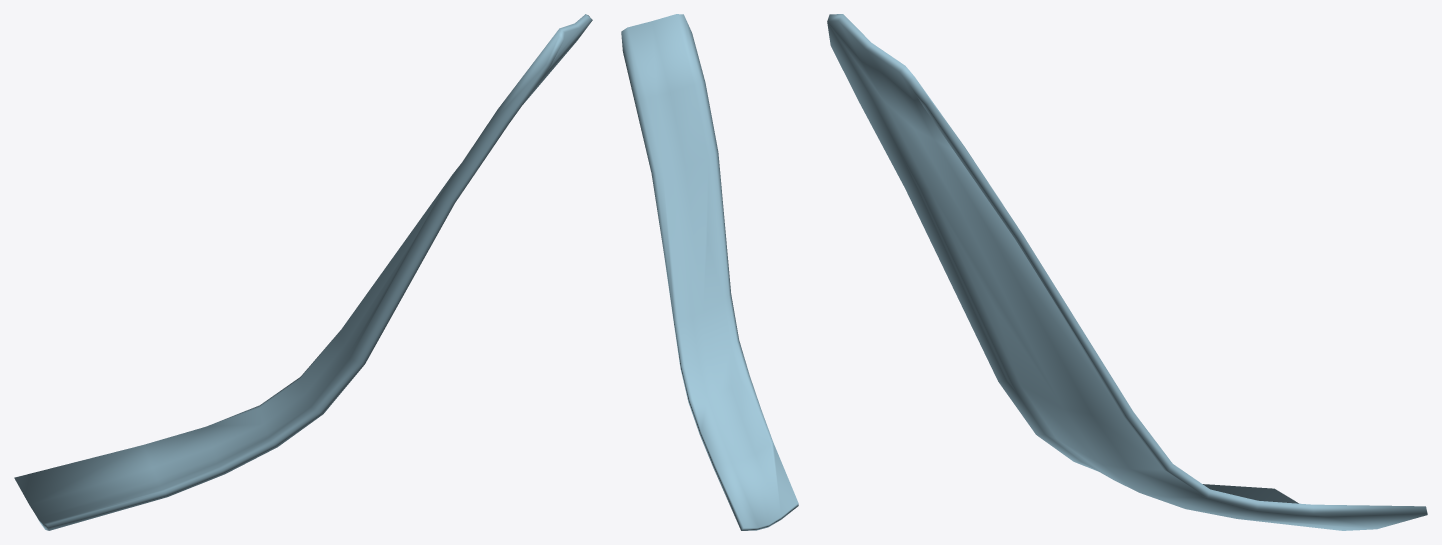
The model's file is articulacoes-pubofemoral-ligament-r.glb.
3 views of the same model, side by side, from view 1: azimuth 30°, elevation 25°; view 2: azimuth 150°, elevation 25°; view 3: azimuth 270°, elevation 25° (orthographic). The views are drawn at different scales.
Parts seen in each view (by area): view 1: Pubofemoral ligament.r; view 2: Pubofemoral ligament.r; view 3: Pubofemoral ligament.r.
Boxes of the visible parts, box(x1,y1,x2,y2) form: Pubofemoral ligament.r: box(14, 14, 592, 530); Pubofemoral ligament.r: box(621, 14, 798, 530); Pubofemoral ligament.r: box(827, 14, 1427, 530).
Size of the model in its own units: 0.0343 by 0.0446 by 0.0334.
